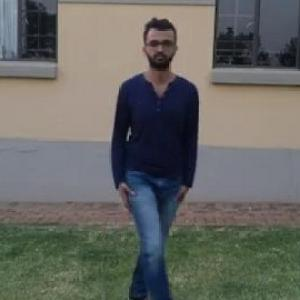follow: (115, 21, 204, 299)
